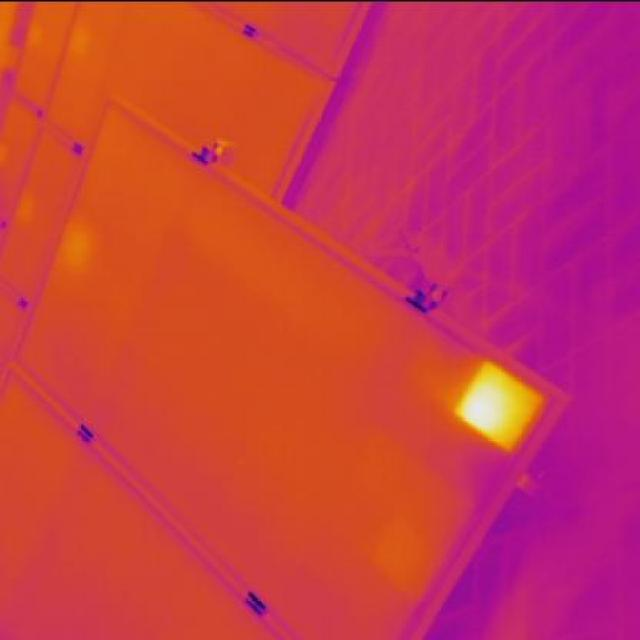hotspot: (451, 356, 547, 459)
